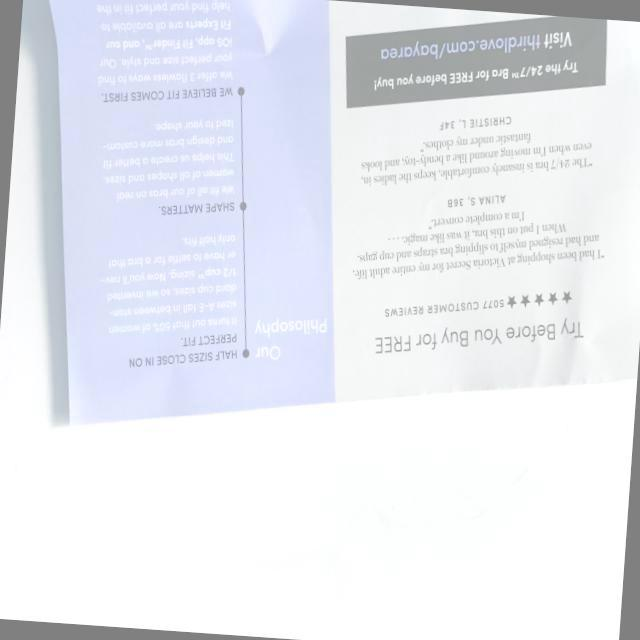paper: (16, 0, 640, 464)
